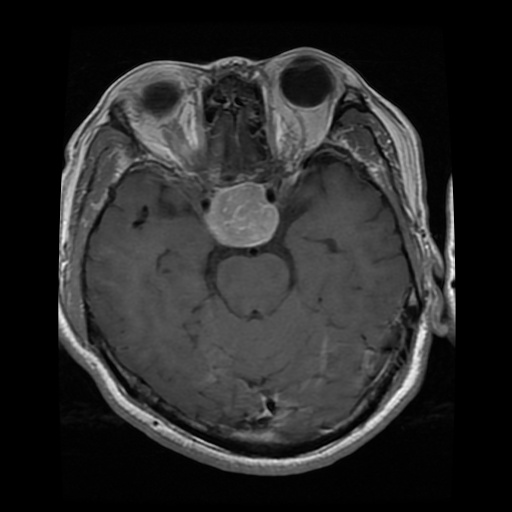pituitary: (205, 182, 278, 248)
